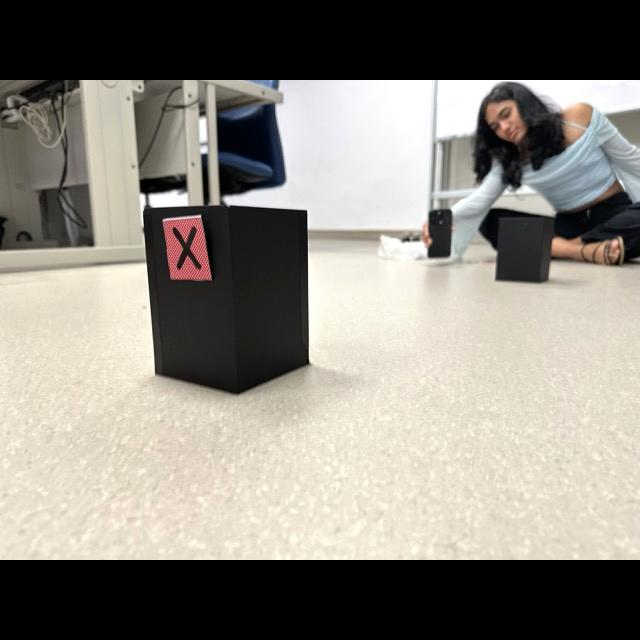X: (172, 229, 200, 269)
